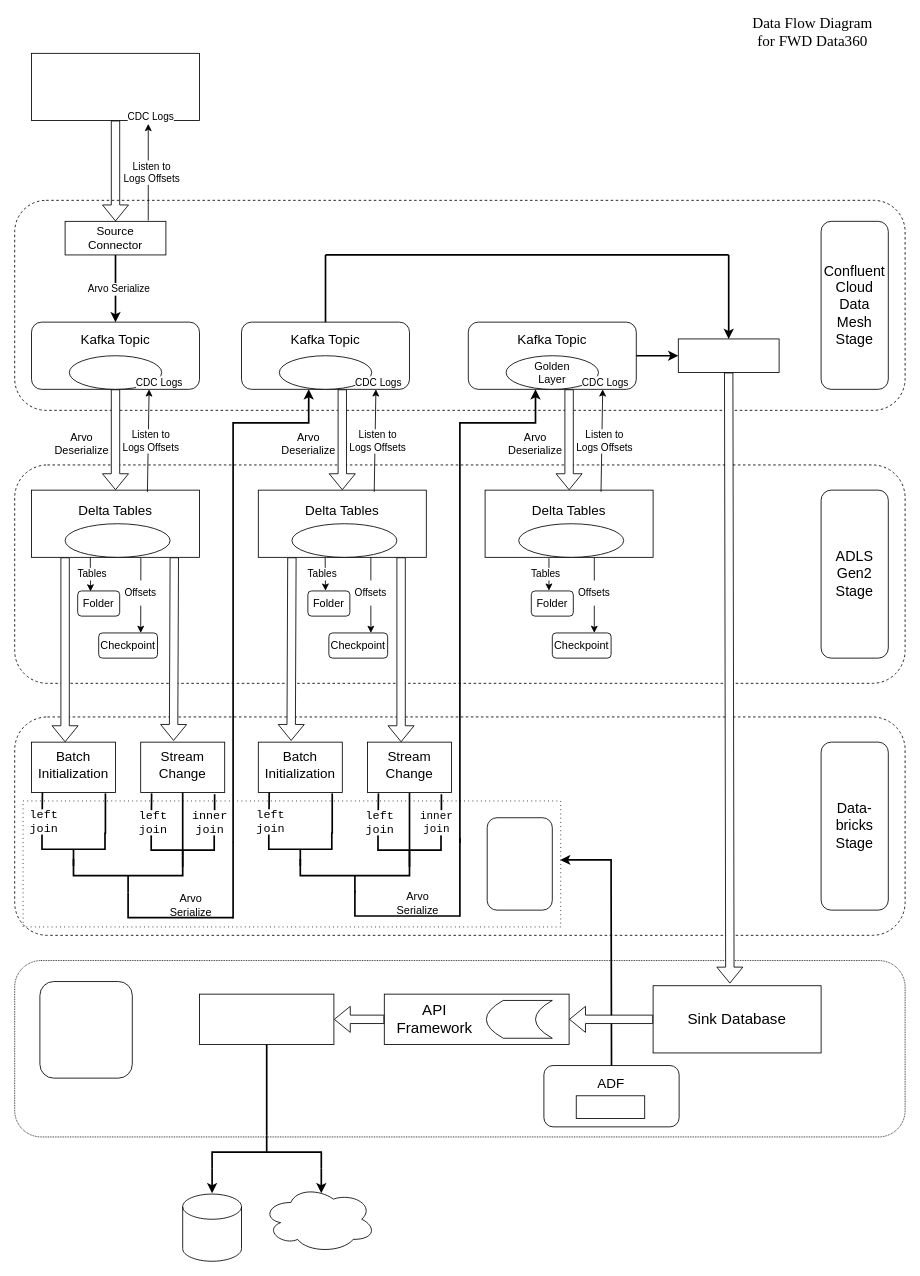
Some shapes in this 920 by 1276 pixel diagram are drawn without their labels. The shapes that lost their labels are listed below. From the top down, each one's box as (x1, y1, x2, y2) in pixels, then its label:
(31, 52, 200, 121): Local Database (Source)
(68, 355, 162, 389): Bronze Layer
(278, 355, 372, 389): Silver Layer
(677, 338, 779, 373): Sink Connector
(64, 523, 170, 557): ODS Layer
(291, 523, 397, 557): DWD Layer
(518, 523, 624, 557): ADS Layer
(486, 817, 552, 910): Notebooks
(39, 981, 132, 1078): Data Service
(199, 993, 334, 1045): Kong Gateway
(486, 1000, 552, 1038): ACL
(575, 1095, 645, 1118): Pipeline
(182, 1193, 242, 1261): Storage
(262, 1185, 376, 1253): Application
